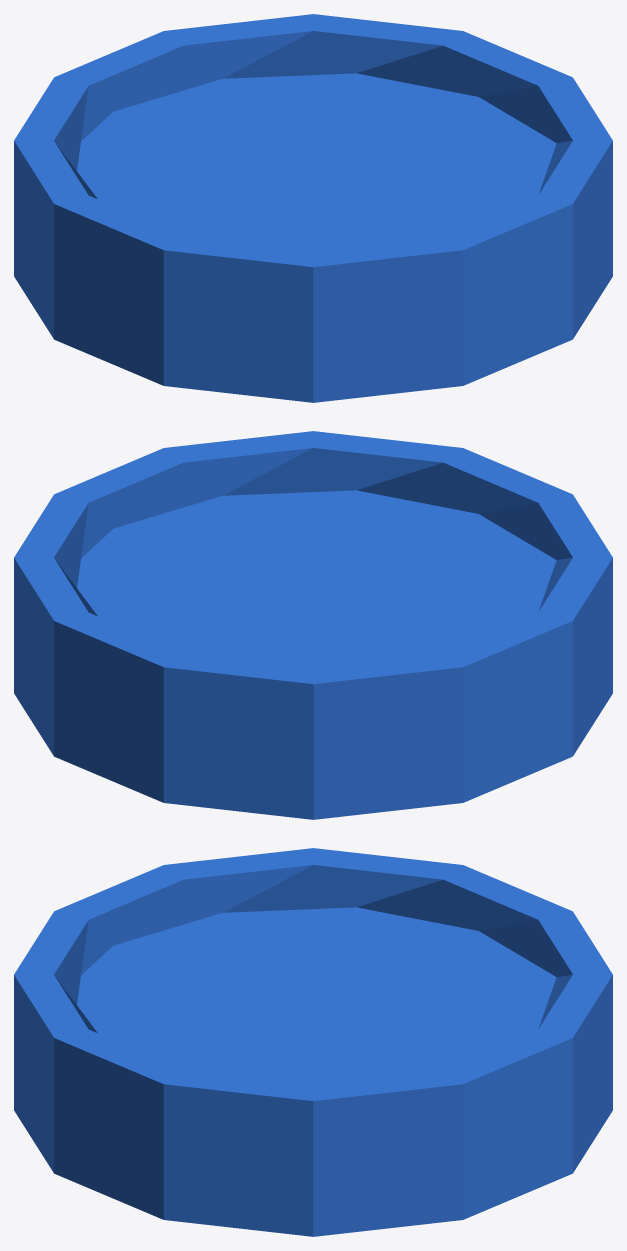
File: Player.fbx
The picture shows the model from 3 angles, top to bottom: view 1: azimuth 30°, elevation 25°; view 2: azimuth 150°, elevation 25°; view 3: azimuth 270°, elevation 25°; orthographic projection.
Parts seen in each view (by area): view 1: Cylinder; view 2: Cylinder; view 3: Cylinder.
Part boxes in pixels (x1,y1,x2,y2): Cylinder: (14, 14, 612, 402); Cylinder: (14, 431, 612, 819); Cylinder: (14, 848, 612, 1236).
Bounding box in the file's own units: 400 × 100 × 400.
